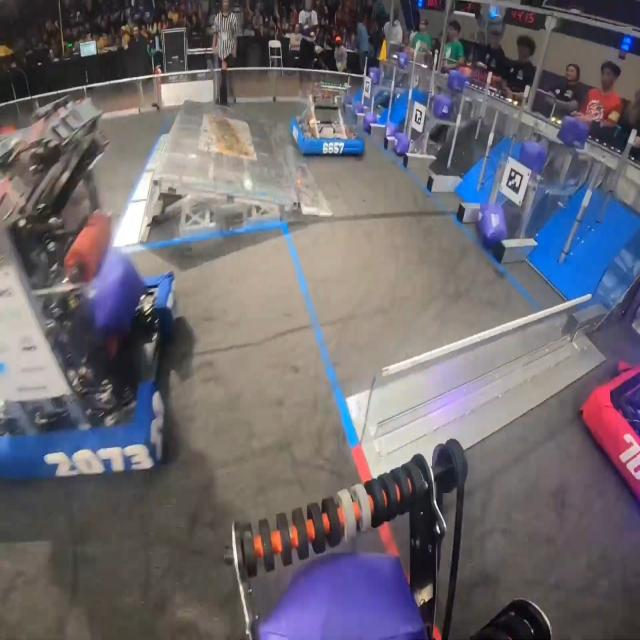robot: (0, 96, 177, 480), (580, 363, 640, 504), (290, 91, 366, 159)
